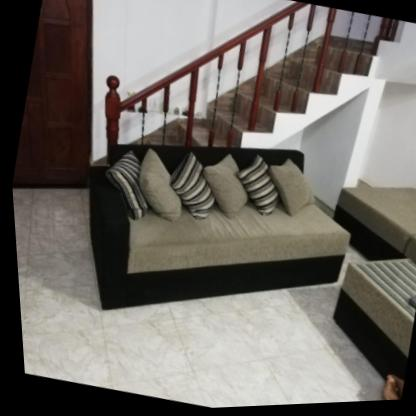Sofa: (47, 105, 370, 364)
